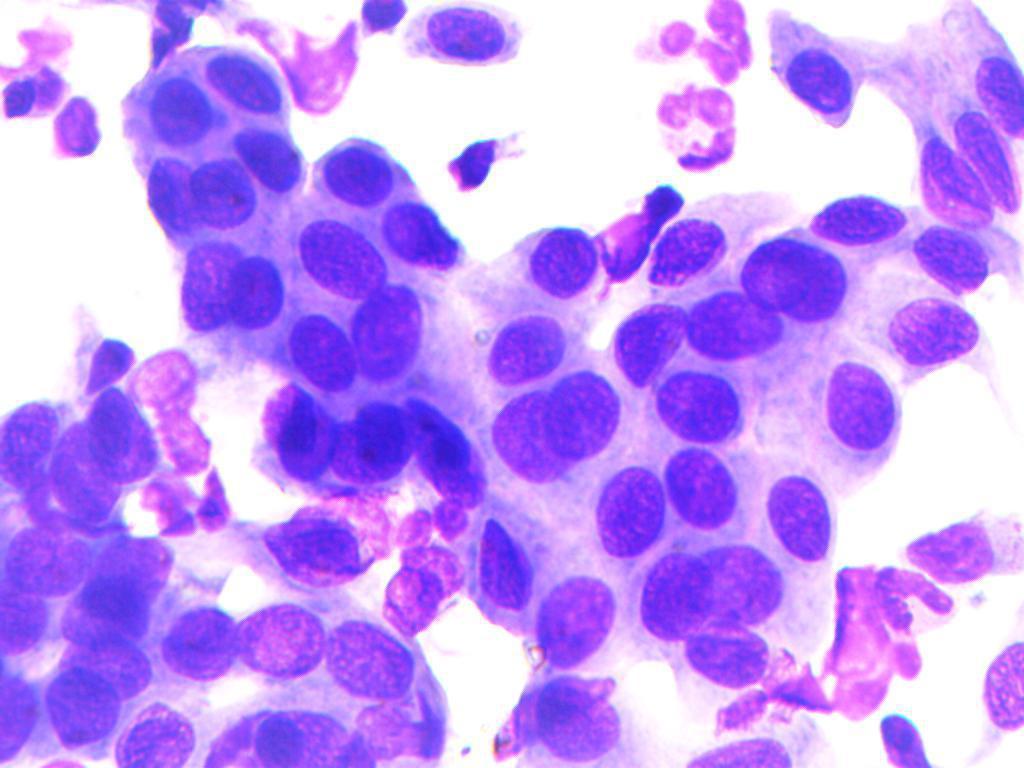artifact: (130, 344, 244, 539), (824, 561, 958, 718), (254, 490, 400, 592), (896, 493, 1017, 587), (256, 20, 364, 118), (594, 184, 687, 282), (444, 123, 520, 202), (62, 326, 131, 397)
epithelial: (54, 536, 180, 646), (506, 677, 647, 768), (931, 80, 1024, 217), (766, 11, 868, 134), (734, 230, 856, 327), (339, 276, 441, 387), (78, 370, 177, 482), (291, 211, 395, 313), (813, 352, 901, 468), (896, 117, 987, 228), (690, 540, 789, 639), (485, 382, 576, 487), (116, 145, 210, 245), (242, 700, 378, 768), (528, 569, 617, 670), (464, 497, 538, 618), (880, 285, 984, 369), (602, 297, 693, 392), (6, 512, 98, 604), (190, 146, 276, 242), (543, 359, 621, 464), (633, 550, 716, 647), (590, 451, 665, 558), (764, 455, 839, 562), (404, 2, 525, 68), (680, 289, 783, 366), (678, 612, 772, 694), (956, 22, 1024, 132), (236, 598, 326, 681), (653, 364, 744, 446), (660, 447, 751, 529), (41, 659, 118, 753), (327, 620, 412, 705), (47, 636, 163, 694), (811, 182, 905, 251), (640, 215, 734, 284), (911, 222, 1005, 291), (154, 603, 234, 683), (2, 392, 62, 496), (111, 694, 196, 767), (169, 242, 233, 337), (969, 632, 1024, 741), (143, 71, 215, 149), (231, 118, 303, 196), (380, 196, 452, 274), (526, 222, 598, 300), (283, 311, 355, 389), (206, 41, 278, 119), (484, 312, 564, 380), (670, 727, 800, 768), (325, 139, 394, 208), (42, 89, 106, 157), (237, 249, 286, 335), (0, 661, 32, 768)
metaplastic: (397, 386, 488, 501), (267, 388, 341, 490), (344, 397, 410, 486), (356, 0, 412, 31)
neutrophil: (389, 477, 473, 608), (649, 87, 751, 180), (651, 0, 752, 82), (2, 61, 72, 128)
